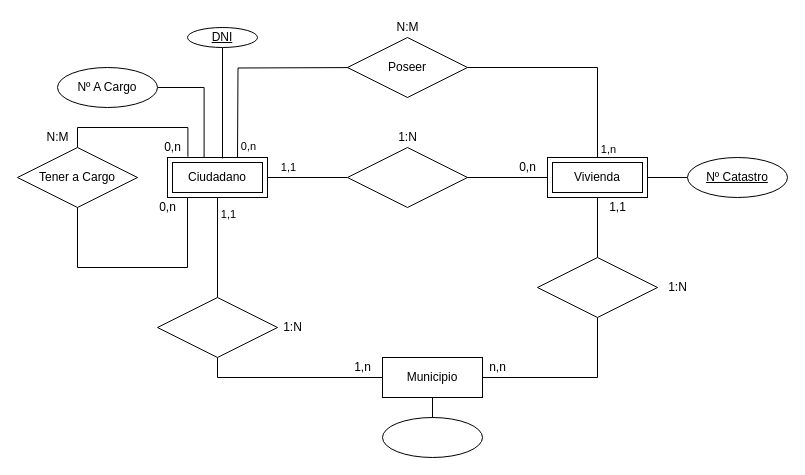
Some shapes in this 805 by 475 pixel diagram are drawn without their labels. Here are the shapes that lost their labels. From the top down, the box of each, then its label:
(346, 146, 468, 208): Habitar
(536, 256, 658, 318): Tener
(156, 296, 278, 358): Vivir
(382, 416, 482, 458): ID Municipio
